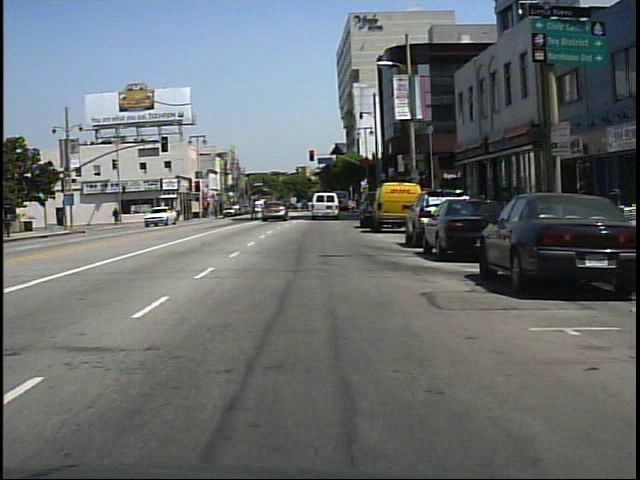person: (246, 193, 263, 222), (112, 206, 121, 225)
